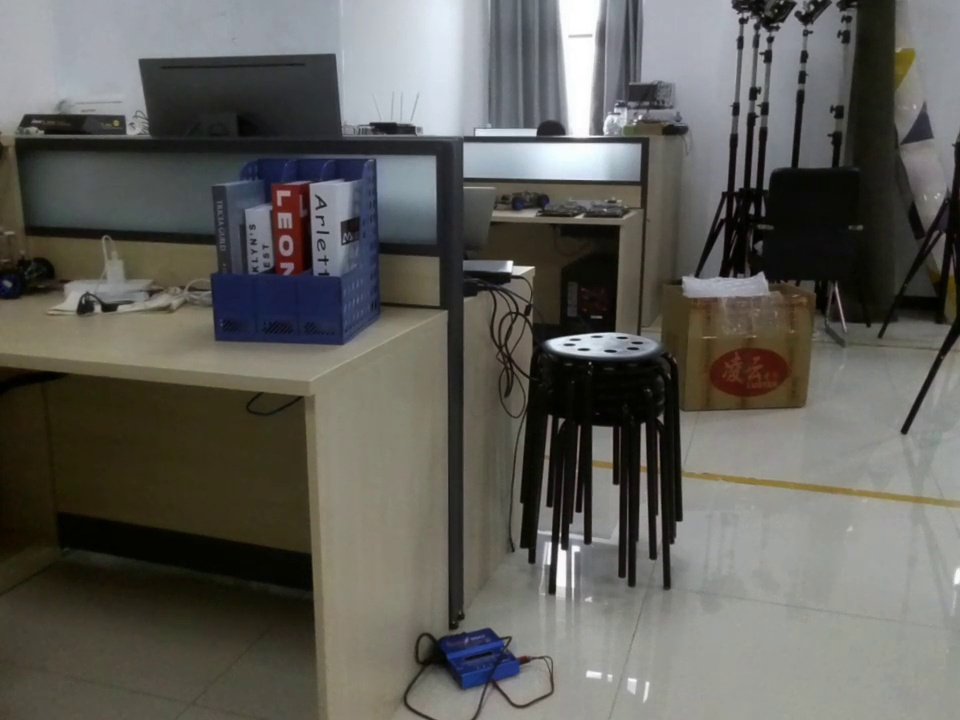files: (205, 152, 399, 341)
